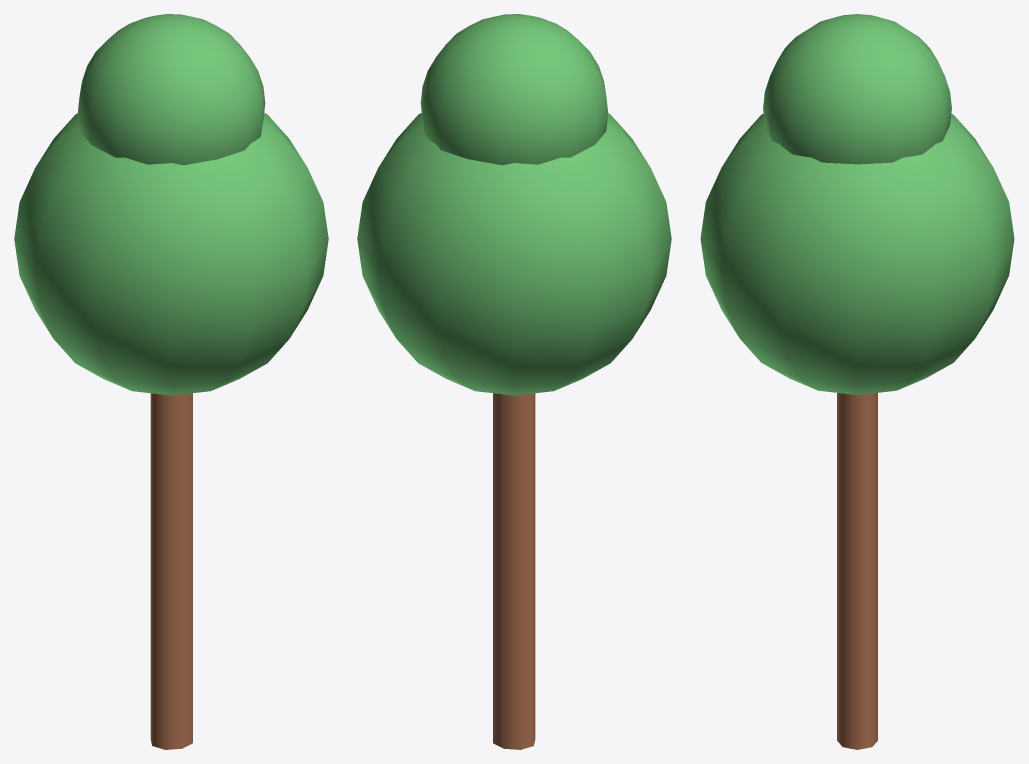
Rendered from Tree2.fbx.
3 views of the same model, side by side, from view 1: azimuth 30°, elevation 25°; view 2: azimuth 150°, elevation 25°; view 3: azimuth 270°, elevation 25° (orthographic).
Parts seen in each view (by area): view 1: Tree.001; view 2: Tree.001; view 3: Tree.001.
Part boxes in pixels (bbox=[...]): Tree.001: bbox=[14, 14, 328, 749]; Tree.001: bbox=[357, 14, 671, 749]; Tree.001: bbox=[700, 14, 1014, 749].
Size of the model in its own units: 737 by 1859 by 737.
